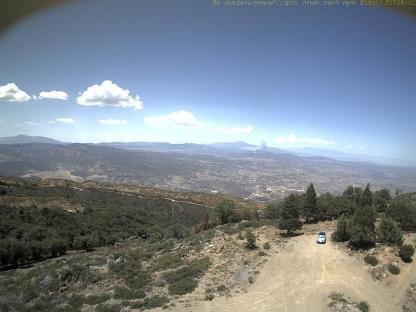smoke: (240, 136, 272, 156)
